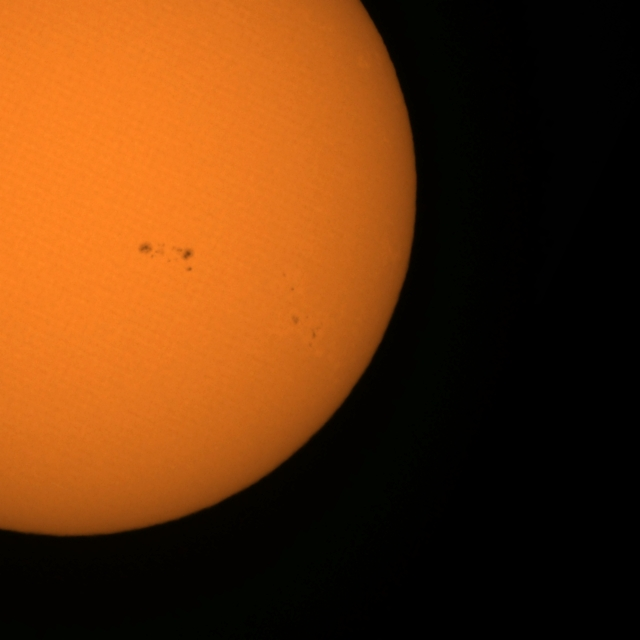sunspot: (136, 240, 194, 265), (290, 314, 322, 342), (290, 314, 300, 326), (289, 286, 295, 293)
